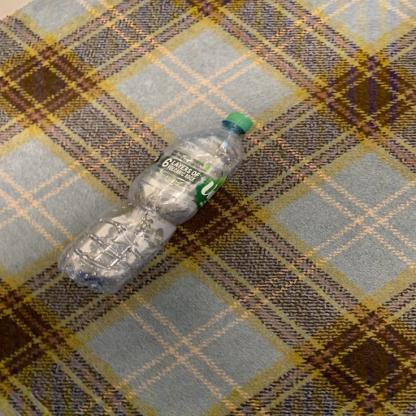trash: (57, 111, 251, 297)
